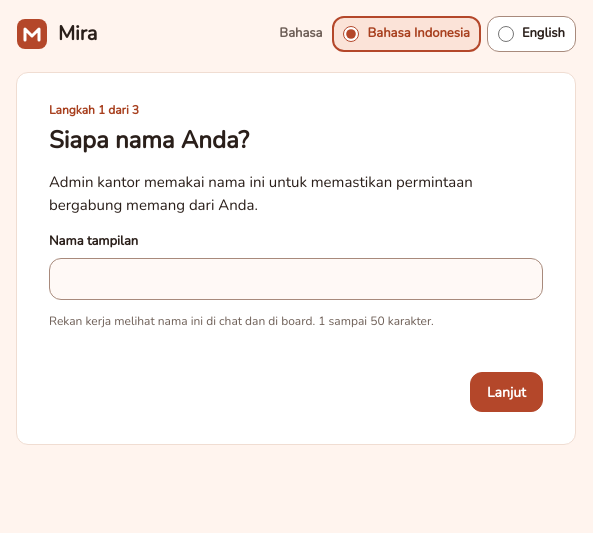
Test: Onboarding: langkah nama › nama gagal disimpan: pesan dari inti tampil dan tetap di langkah nama
This screenshot has width=593, height=533.
expect the heading "Siapa nama Anda?" is shown: met, box [49,124,249,156]
Type "Rina" into the field labelled "Nama tampilan". click: (296, 279)
box: [49,258,543,300]
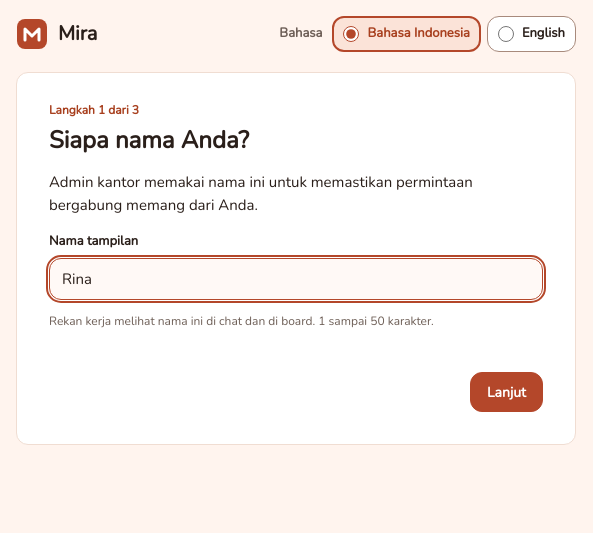
Click the button "Lanjut". click: (506, 392)
box: [470,372,543,412]
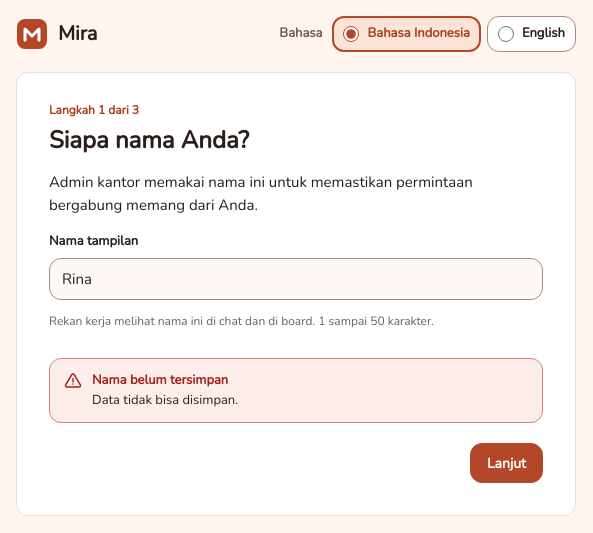
expect the text "Nama belum tersimpan" is shown: met, box [92,371,238,390]
expect the text "Data tidak bisa disimpan." is shown: met, box [92,390,238,410]
